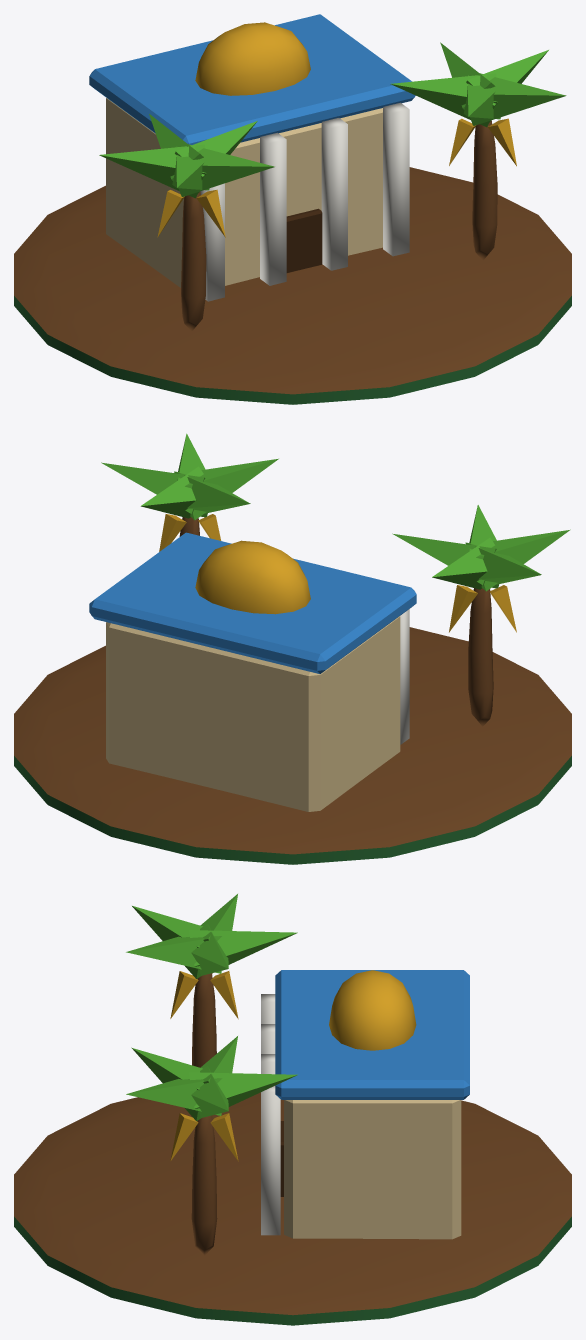
The picture shows the model from 3 angles, top to bottom: view 1: azimuth 30°, elevation 25°; view 2: azimuth 150°, elevation 25°; view 3: azimuth 270°, elevation 25°; orthographic projection.
Visible parts, largest first — view 1: fazenda_0_base; view 2: fazenda_0_base; view 3: fazenda_0_base.
Boxes of the visible parts, x1=… form: fazenda_0_base: x1=14, y1=14, x2=571, y2=404; fazenda_0_base: x1=14, y1=433, x2=571, y2=864; fazenda_0_base: x1=14, y1=894, x2=571, y2=1325.
Bounding box in the file's own units: 1.28 × 0.5748 × 1.26.
